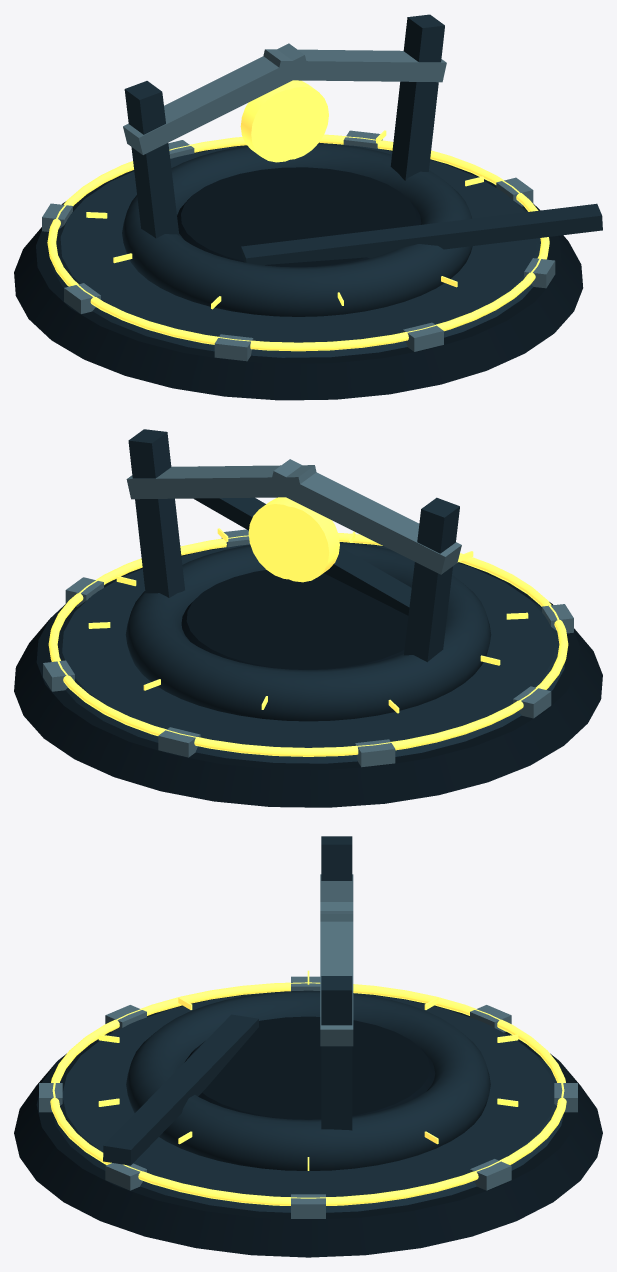
File: metalMine.glb
3 renders of one model, top to bottom at view 1: azimuth 30°, elevation 25°; view 2: azimuth 150°, elevation 25°; view 3: azimuth 270°, elevation 25°, orthographic. The views are drawn at different scales.
Visible parts, largest first — view 1: armored-foundation, upper-deck, excavation-rim, excavation-pit, excavator-boom (×2), excavator-tower (×2), ore-conveyor, perimeter-light, bucket-wheel (×2), buttress-3, buttress-2, buttress-4 (+3 smaller); view 2: armored-foundation, upper-deck, excavation-rim, excavation-pit, excavator-boom (×2), excavator-tower (×2), perimeter-light, bucket-wheel (×2), ore-conveyor, buttress-5, buttress-6, buttress-4 (+3 smaller); view 3: armored-foundation, upper-deck, excavation-rim, excavation-pit, perimeter-light, ore-conveyor, excavator-tower (×2), excavator-boom (×2), buttress-7, buttress-0, buttress-1, buttress-3 (+3 smaller).
Part boxes in pixels (x1=…): armored-foundation: x1=14, y1=143, x2=583, y2=400; upper-deck: x1=50, y1=145, x2=547, y2=357; excavation-rim: x1=122, y1=142, x2=472, y2=316; excavation-pit: x1=177, y1=167, x2=421, y2=267; excavator-boom (×2): x1=123, y1=43, x2=446, y2=154; excavator-tower (×2): x1=124, y1=14, x2=444, y2=238; ore-conveyor: x1=241, y1=203, x2=602, y2=265; perimeter-light: x1=47, y1=134, x2=549, y2=351; bucket-wheel (×2): x1=240, y1=80, x2=328, y2=162; buttress-3: x1=214, y1=334, x2=253, y2=361; buttress-2: x1=403, y1=322, x2=443, y2=351; buttress-4: x1=64, y1=283, x2=100, y2=313; armored-foundation: x1=14, y1=542, x2=602, y2=807; upper-deck: x1=51, y1=544, x2=564, y2=763; excavation-rim: x1=125, y1=542, x2=491, y2=721; excavation-pit: x1=181, y1=570, x2=408, y2=669; excavator-boom (×2): x1=126, y1=459, x2=461, y2=574; excavator-tower (×2): x1=128, y1=429, x2=459, y2=662; perimeter-light: x1=48, y1=533, x2=568, y2=756; bucket-wheel (×2): x1=248, y1=497, x2=339, y2=582; ore-conveyor: x1=194, y1=497, x2=411, y2=615; buttress-5: x1=355, y1=739, x2=395, y2=767; buttress-6: x1=158, y1=727, x2=200, y2=757; buttress-4: x1=513, y1=686, x2=551, y2=718; armored-foundation: x1=14, y1=992, x2=602, y2=1257; upper-deck: x1=53, y1=993, x2=563, y2=1212; excavation-rim: x1=126, y1=990, x2=490, y2=1170; excavation-pit: x1=184, y1=1016, x2=435, y2=1119; perimeter-light: x1=50, y1=982, x2=566, y2=1205; ore-conveyor: x1=103, y1=1014, x2=258, y2=1165; excavator-tower (×2): x1=321, y1=836, x2=352, y2=1130; excavator-boom (×2): x1=320, y1=874, x2=353, y2=1046; buttress-7: x1=470, y1=1159, x2=511, y2=1190; buttress-0: x1=291, y1=1194, x2=325, y2=1218; buttress-1: x1=105, y1=1163, x2=146, y2=1190; buttress-3: x1=105, y1=1005, x2=146, y2=1032.
Size of the model in its own units: 10.4 by 4.39 by 10.4.
